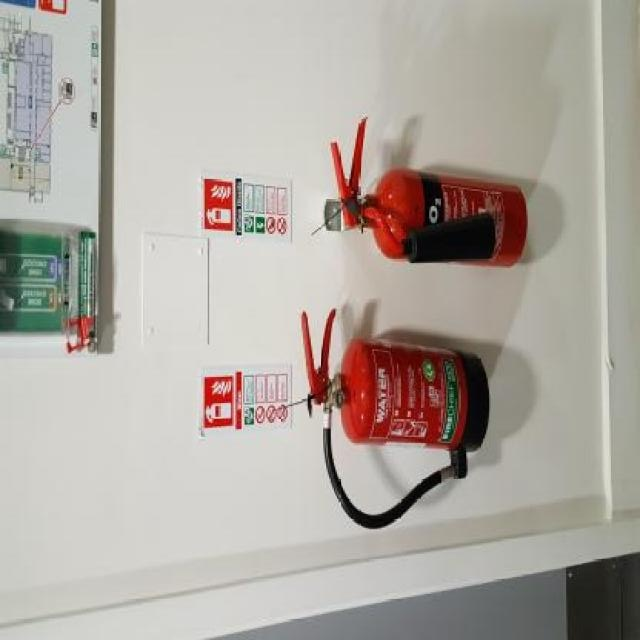fire extinguisher: (300, 307, 491, 530), (330, 115, 528, 267)
